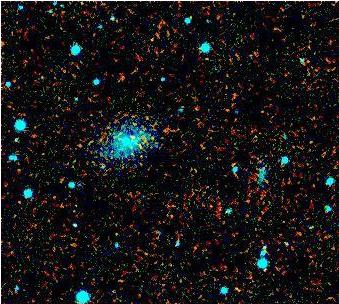star: (247, 252, 277, 282)
